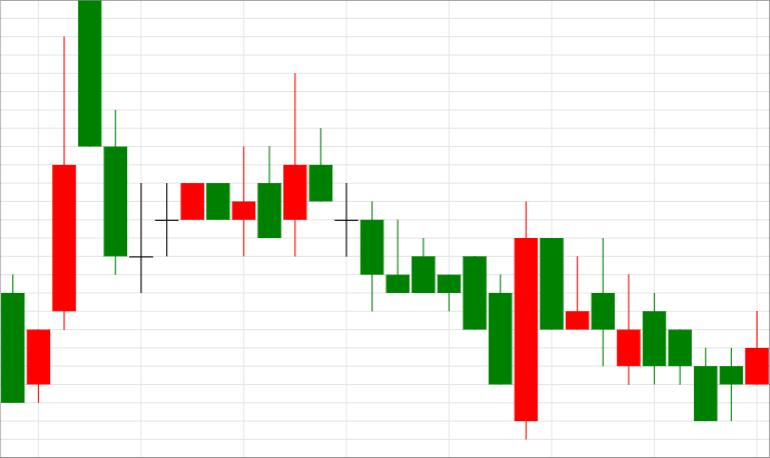bullish_engulfing_rise: (309, 127, 539, 439)
